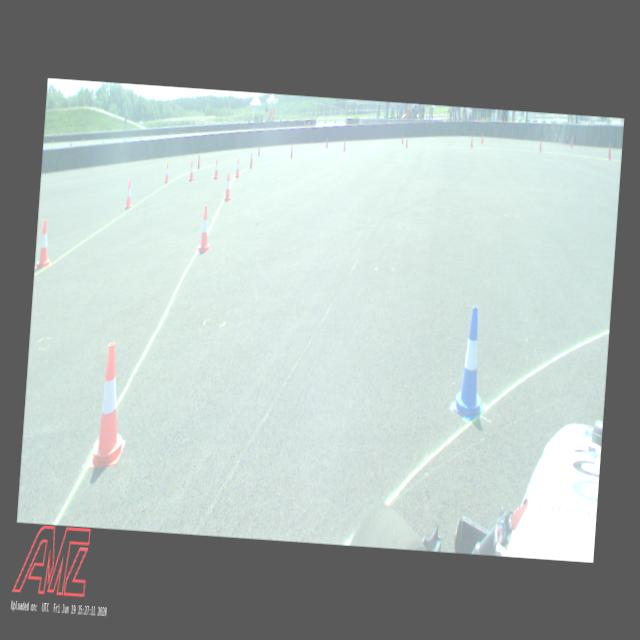blue_cone: (450, 304, 491, 422)
orange_cone: (88, 340, 132, 470), (34, 218, 54, 270), (197, 205, 212, 252), (124, 180, 133, 210), (224, 172, 232, 200), (213, 157, 220, 179), (163, 162, 170, 183), (234, 156, 240, 178), (188, 160, 194, 180)
unknown_cone: (607, 142, 611, 160), (249, 152, 253, 169), (197, 153, 201, 170), (539, 137, 542, 152), (470, 135, 473, 148), (481, 132, 484, 145), (290, 144, 292, 158), (344, 138, 346, 152), (258, 143, 260, 156), (326, 136, 328, 148), (402, 132, 404, 144), (406, 136, 408, 148), (570, 136, 572, 148)
